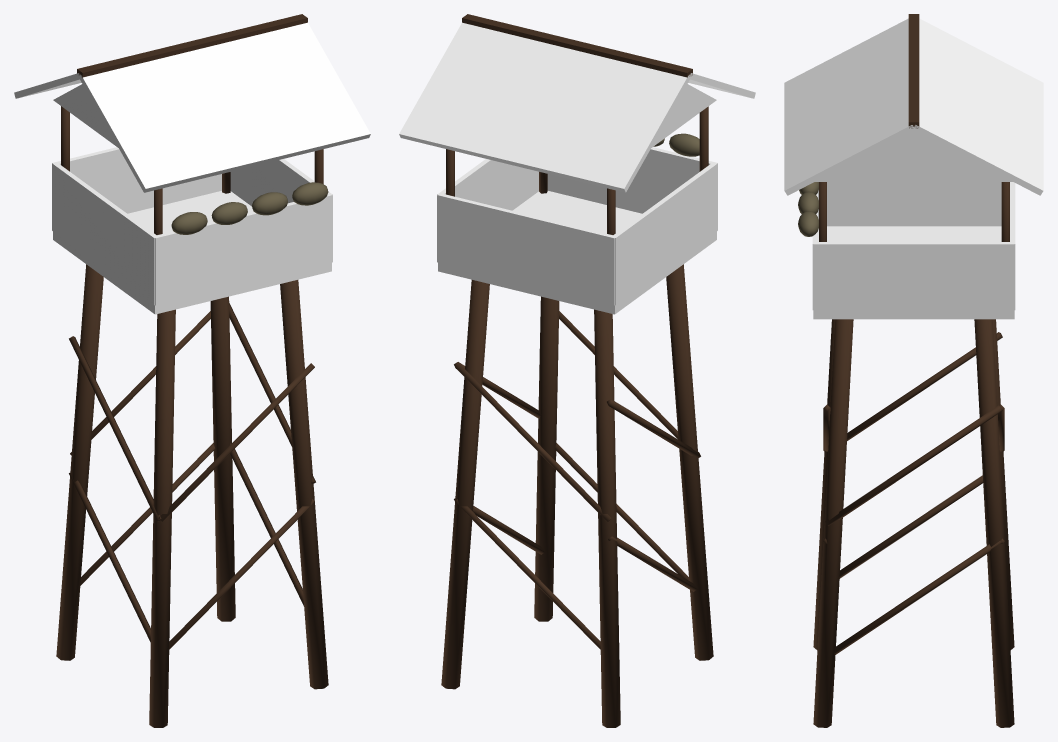
File: wieza_straznicza.glb
The picture shows the model from 3 angles, left to right: view 1: azimuth 30°, elevation 25°; view 2: azimuth 150°, elevation 25°; view 3: azimuth 270°, elevation 25°; orthographic projection.
Visible parts, largest first — view 1: wieza_23, wieza_16, wieza_1, wieza_3, wieza_17, wieza_2, wieza_4, wieza_13, wieza_14, wieza_26, wieza_15, wieza_12 (+13 smaller); view 2: wieza_22, wieza_14, wieza_2, wieza_4, wieza_17, wieza_1, wieza_3, wieza_13, wieza_16, wieza_15, wieza_26, wieza_9 (+10 smaller); view 3: wieza_22, wieza_23, wieza_15, wieza_17, wieza_3, wieza_4, wieza_24, wieza_13, wieza_10, wieza_6, wieza_26, wieza_8 (+7 smaller).
Boxes of the visible parts, left/top/right/bottom form: wieza_23: left=79, top=22, right=370, bottom=192; wieza_16: left=153, top=193, right=332, bottom=305; wieza_1: left=149, top=309, right=175, bottom=727; wieza_3: left=280, top=280, right=328, bottom=689; wieza_17: left=52, top=162, right=157, bottom=305; wieza_2: left=56, top=264, right=103, bottom=660; wieza_4: left=210, top=296, right=235, bottom=621; wieza_13: left=53, top=191, right=331, bottom=314; wieza_14: left=52, top=147, right=221, bottom=213; wieza_26: left=77, top=14, right=307, bottom=77; wieza_15: left=230, top=159, right=332, bottom=261; wieza_12: left=69, top=336, right=161, bottom=521; wieza_22: left=399, top=22, right=690, bottom=192; wieza_14: left=437, top=193, right=616, bottom=305; wieza_2: left=594, top=309, right=620, bottom=727; wieza_4: left=441, top=280, right=489, bottom=689; wieza_17: left=612, top=162, right=717, bottom=305; wieza_1: left=666, top=264, right=713, bottom=660; wieza_3: left=534, top=296, right=559, bottom=621; wieza_13: left=438, top=191, right=716, bottom=314; wieza_16: left=547, top=147, right=717, bottom=213; wieza_15: left=437, top=159, right=538, bottom=261; wieza_26: left=462, top=14, right=692, bottom=77; wieza_9: left=455, top=363, right=611, bottom=521; wieza_22: left=912, top=18, right=1043, bottom=195; wieza_23: left=784, top=18, right=913, bottom=195; wieza_15: left=813, top=242, right=1014, bottom=310; wieza_17: left=818, top=182, right=1001, bottom=226; wieza_3: left=813, top=319, right=853, bottom=727; wieza_4: left=974, top=319, right=1014, bottom=727; wieza_24: left=815, top=130, right=1012, bottom=181; wieza_13: left=813, top=226, right=1014, bottom=319; wieza_10: left=825, top=405, right=1002, bottom=525; wieza_6: left=834, top=540, right=1002, bottom=654; wieza_26: left=908, top=14, right=919, bottom=128; wieza_8: left=839, top=475, right=983, bottom=578.
Bounding box in the file's own units: 2.8 × 7.47 × 2.83.
